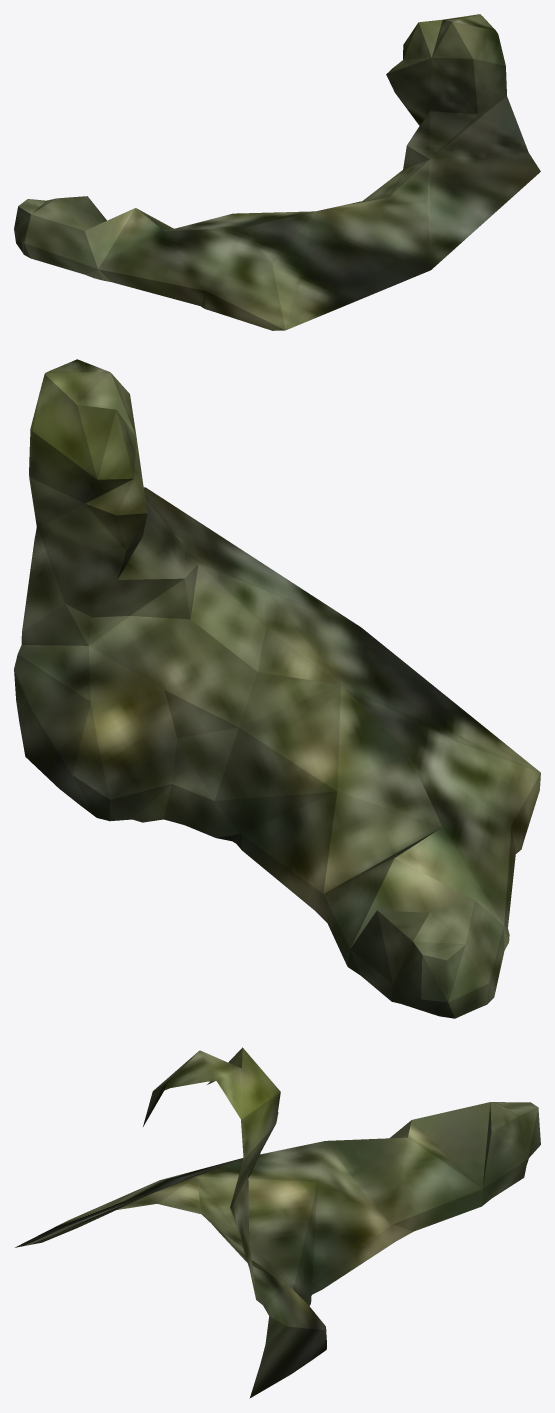
3 views of the same model, one above another, from view 1: azimuth 30°, elevation 25°; view 2: azimuth 150°, elevation 25°; view 3: azimuth 270°, elevation 25° (orthographic). The views are drawn at different scales.
Size of the model in its own units: 1.25 by 0.7476 by 1.1.
1 material, 1 textured.
